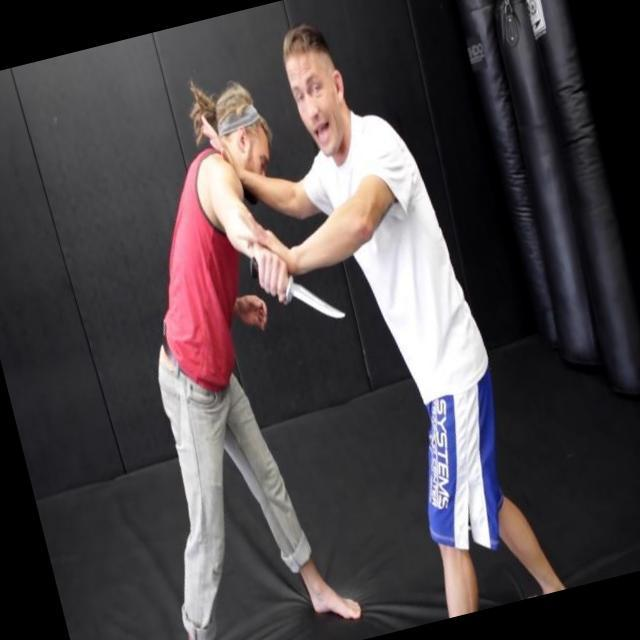Knife: (242, 228, 354, 349)
